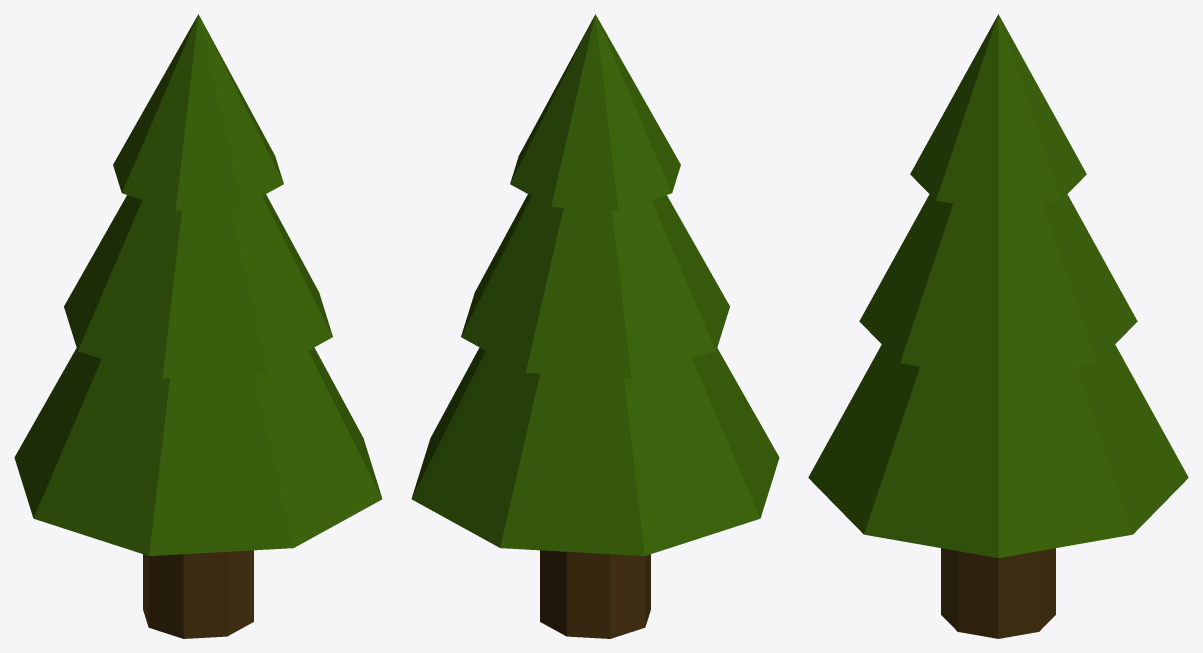
File: tree.glb
The picture shows the model from 3 angles, left to right: view 1: azimuth 30°, elevation 25°; view 2: azimuth 150°, elevation 25°; view 3: azimuth 270°, elevation 25°; orthographic projection.
Visible parts, largest first — view 1: Cone, Cone.001, Cone.002, Cylinder; view 2: Cone, Cone.001, Cone.002, Cylinder; view 3: Cone, Cone.001, Cone.002, Cylinder.
Part boxes in pixels (x1=…): Cone: x1=14, y1=347, x2=382, y2=556; Cone.001: x1=64, y1=194, x2=332, y2=378; Cone.002: x1=113, y1=14, x2=283, y2=210; Cylinder: x1=143, y1=550, x2=253, y2=638; Cone: x1=411, y1=347, x2=779, y2=556; Cone.001: x1=461, y1=194, x2=729, y2=378; Cone.002: x1=510, y1=14, x2=680, y2=210; Cylinder: x1=540, y1=550, x2=650, y2=638; Cone: x1=808, y1=344, x2=1188, y2=557; Cone.001: x1=859, y1=194, x2=1137, y2=380; Cone.002: x1=910, y1=14, x2=1086, y2=211; Cylinder: x1=941, y1=548, x2=1055, y2=638.
Bounding box in the file's own units: 4.17 × 7.27 × 4.17.
